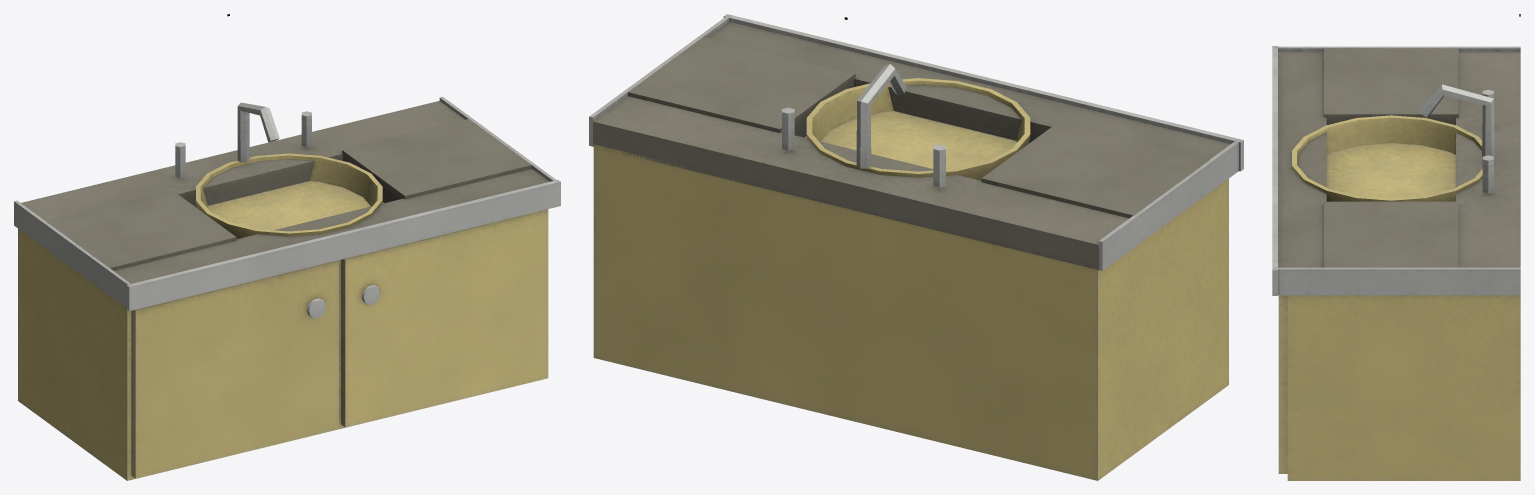
The model's file is H_Vanity_Butter.fbx.
3 renders of one model, left to right at view 1: azimuth 30°, elevation 25°; view 2: azimuth 150°, elevation 25°; view 3: azimuth 270°, elevation 25°, orthographic. The views are drawn at different scales.
Parts seen in each view (by area): view 1: H_Vanity_Butter; view 2: H_Vanity_Butter; view 3: H_Vanity_Butter.
Boxes of the visible parts, x1,y1,x2,y2 form: H_Vanity_Butter: [14, 14, 560, 480]; H_Vanity_Butter: [589, 14, 1243, 480]; H_Vanity_Butter: [1272, 14, 1520, 480].
Bounding box in the file's own units: 410 × 304 × 192.
1 material, 1 textured.
